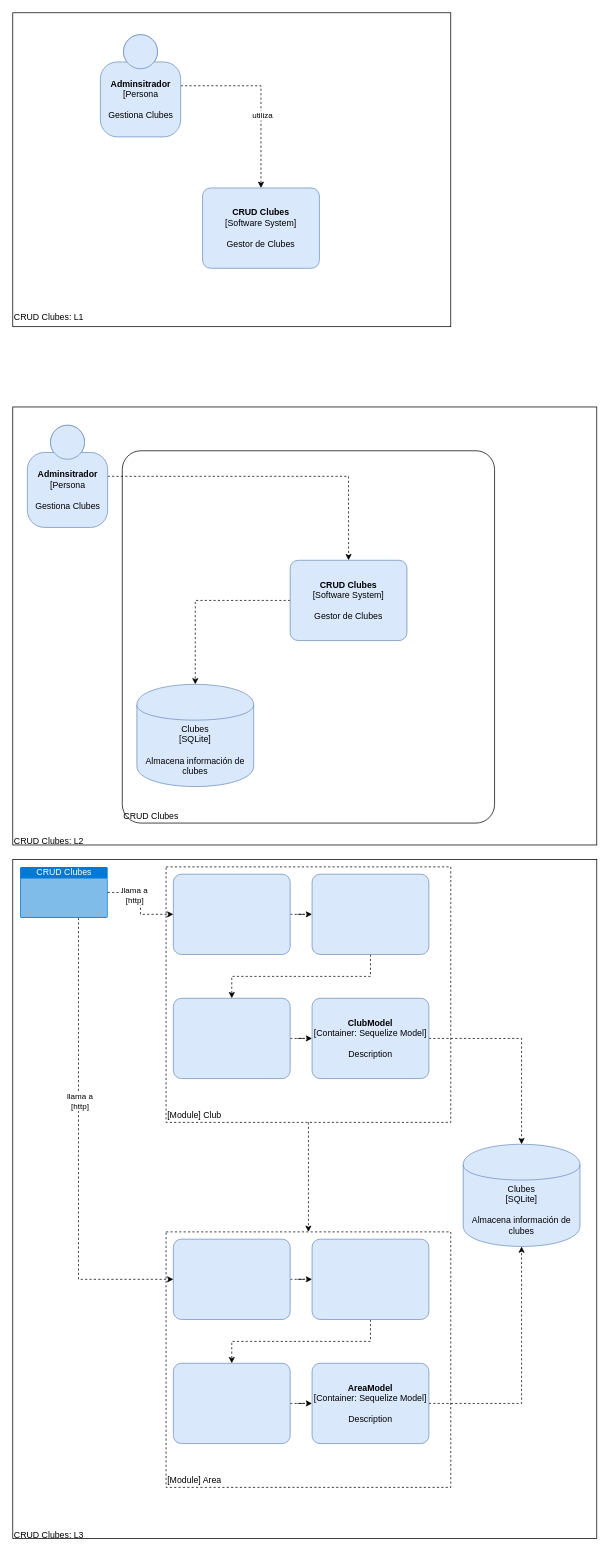
Some shapes in this 610 by 1553 pixel diagram are drawn without their labels. The shapes that lost their labels are listed below. From the top down, each one's centre as x and y in pixels, then its label:
(231,913): ClubController [Container: express ] Description
(370,913): ClubService [Container: node ] Description
(231,1038): ClubRepository [Container: node ] Description
(231,1278): AreaController [Container: express ] Description
(370,1278): AreaService [Container: node ] Description
(231,1403): AreaRepository [Container: node ] Description
